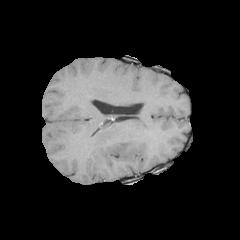glioma: (103, 139, 141, 161)
